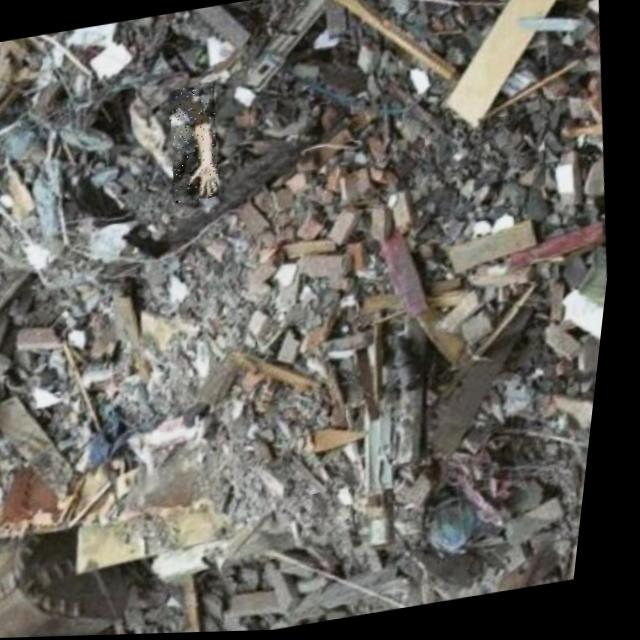Person in Rubble: (162, 83, 233, 205)
